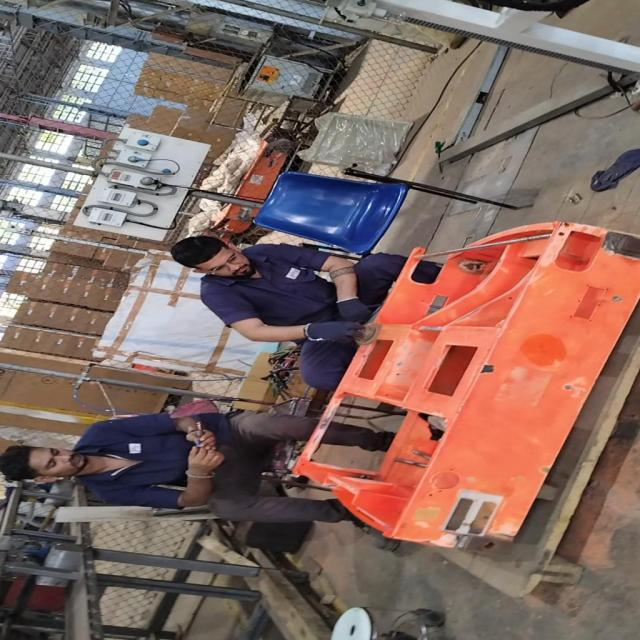Gloves-Detection: (304, 298, 366, 351)
